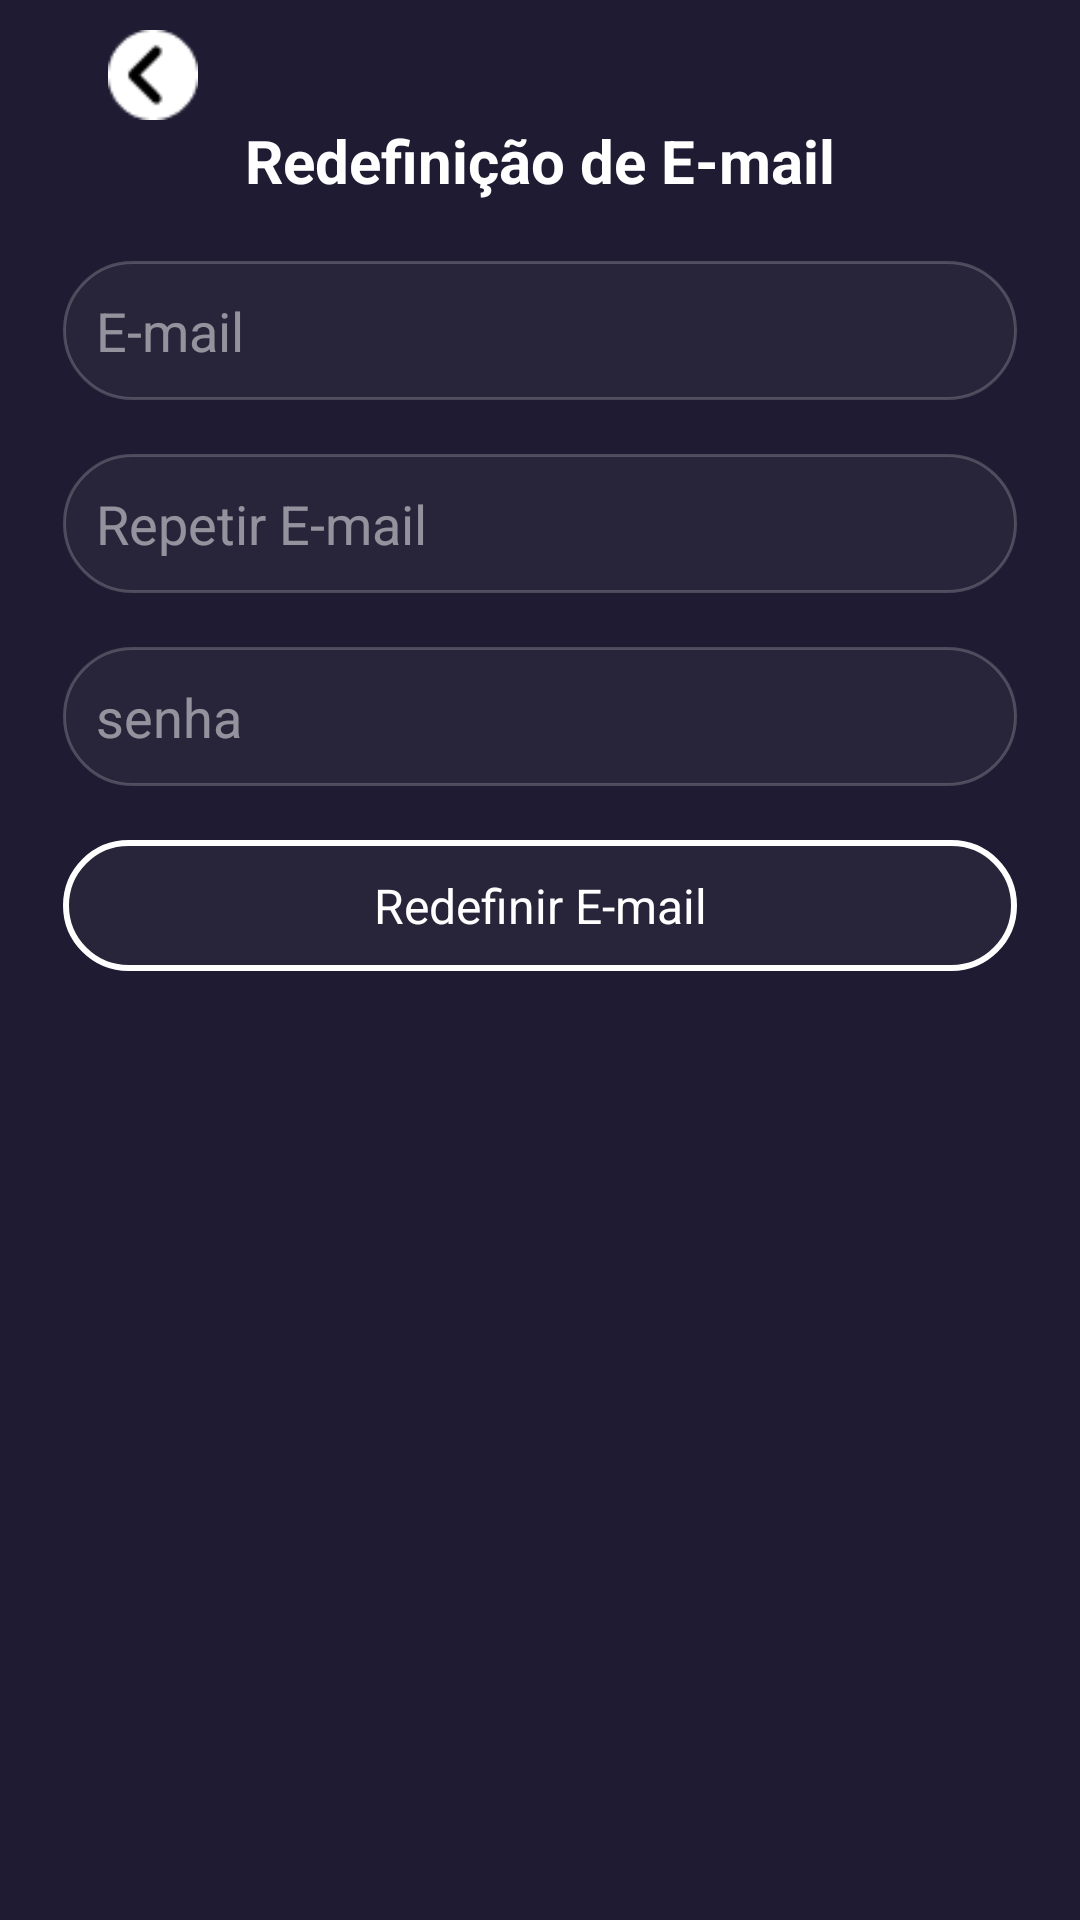

Point at icon controls on the screen. Image size 1080 x 1920, points as [x,y].
back: [153,75]
